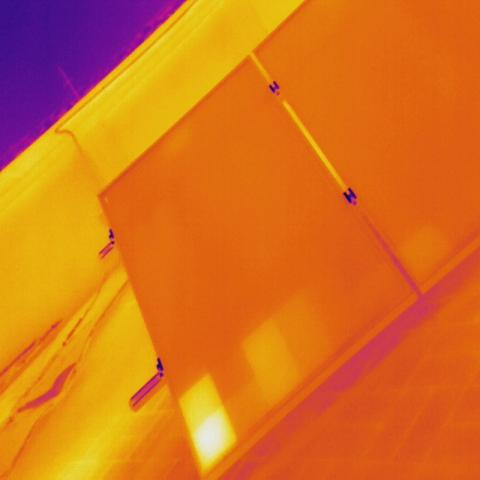fault: (178, 372, 242, 471), (239, 315, 303, 407)
